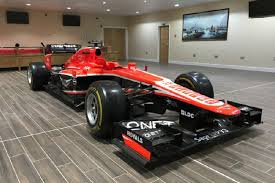f1_car: (24, 38, 269, 178)
